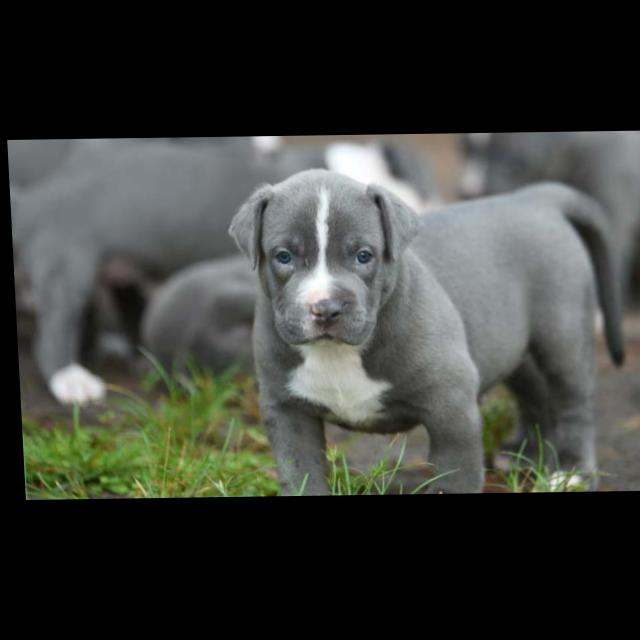am_pit_bull_terrier: (223, 165, 630, 499)
